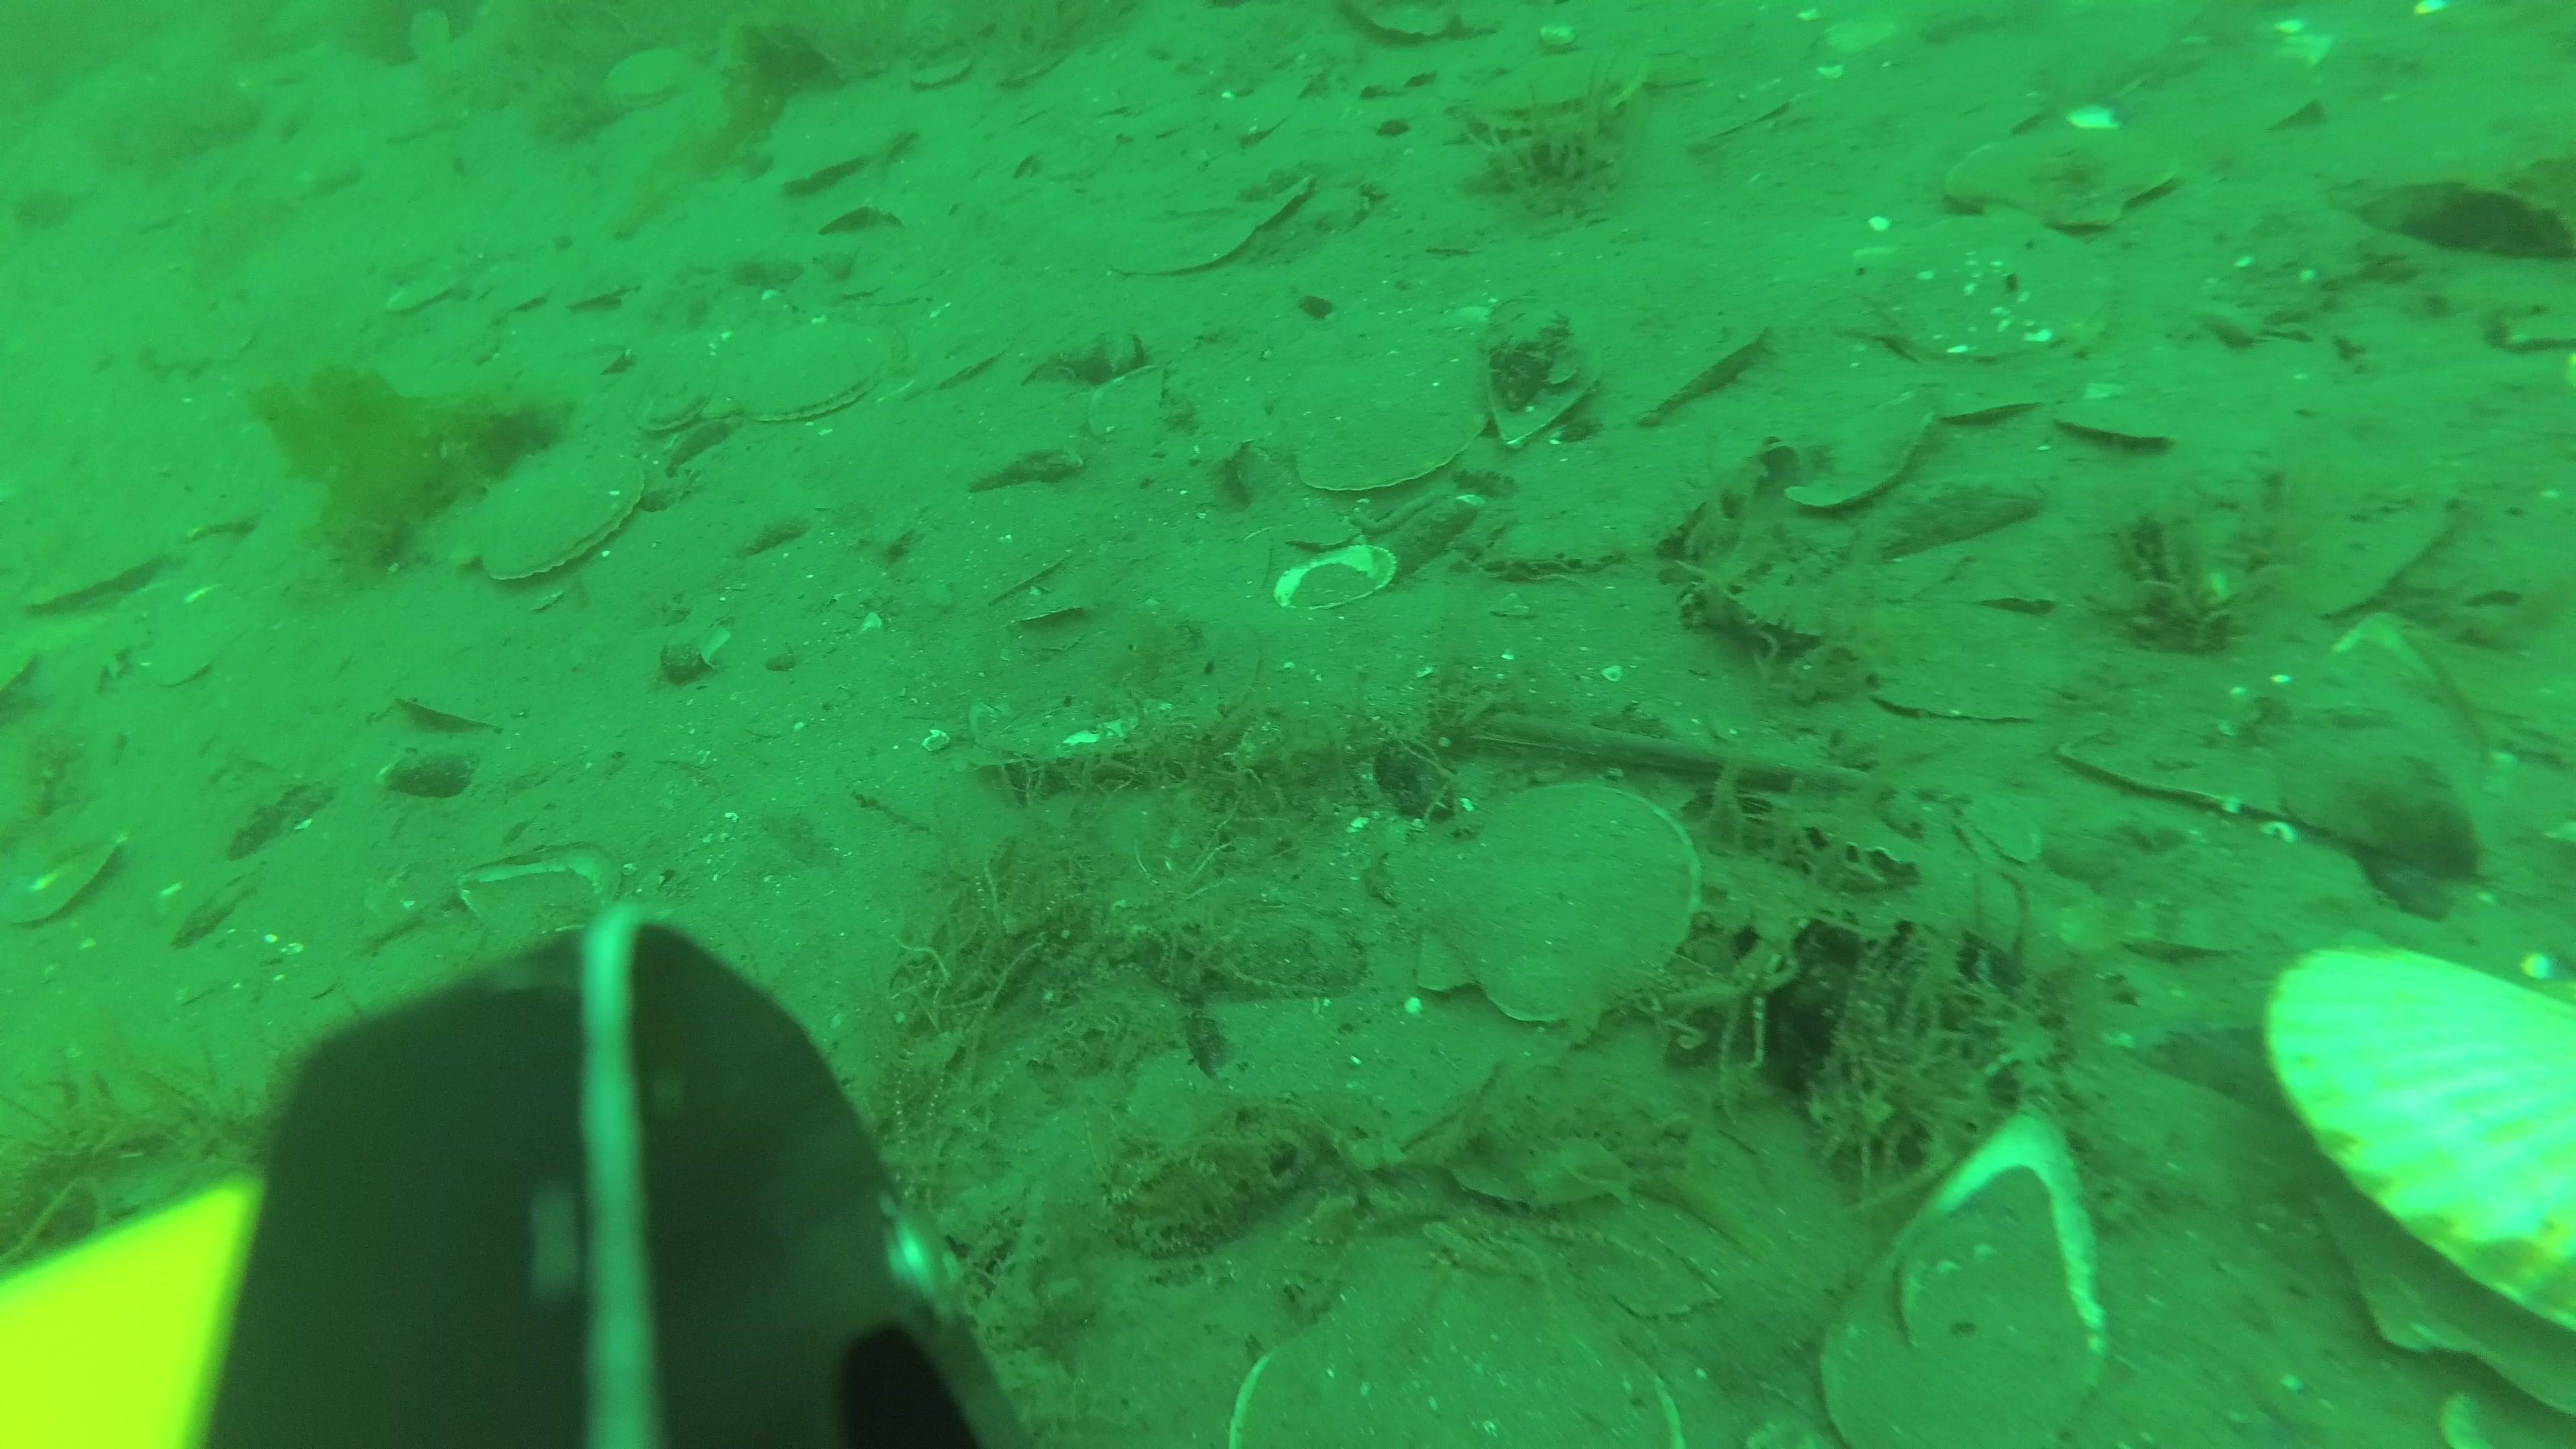scallop: (2266, 908, 2576, 1426), (2270, 943, 2576, 1353), (1230, 1261, 1709, 1449), (1391, 770, 1713, 1047), (1861, 196, 2123, 375), (1277, 315, 1500, 499), (1937, 117, 2187, 232), (471, 455, 660, 598), (1769, 354, 1934, 517), (1594, 292, 1748, 433), (709, 317, 893, 428), (763, 101, 924, 202), (18, 536, 186, 628), (2061, 377, 2181, 455), (598, 46, 711, 113), (632, 379, 709, 448)
